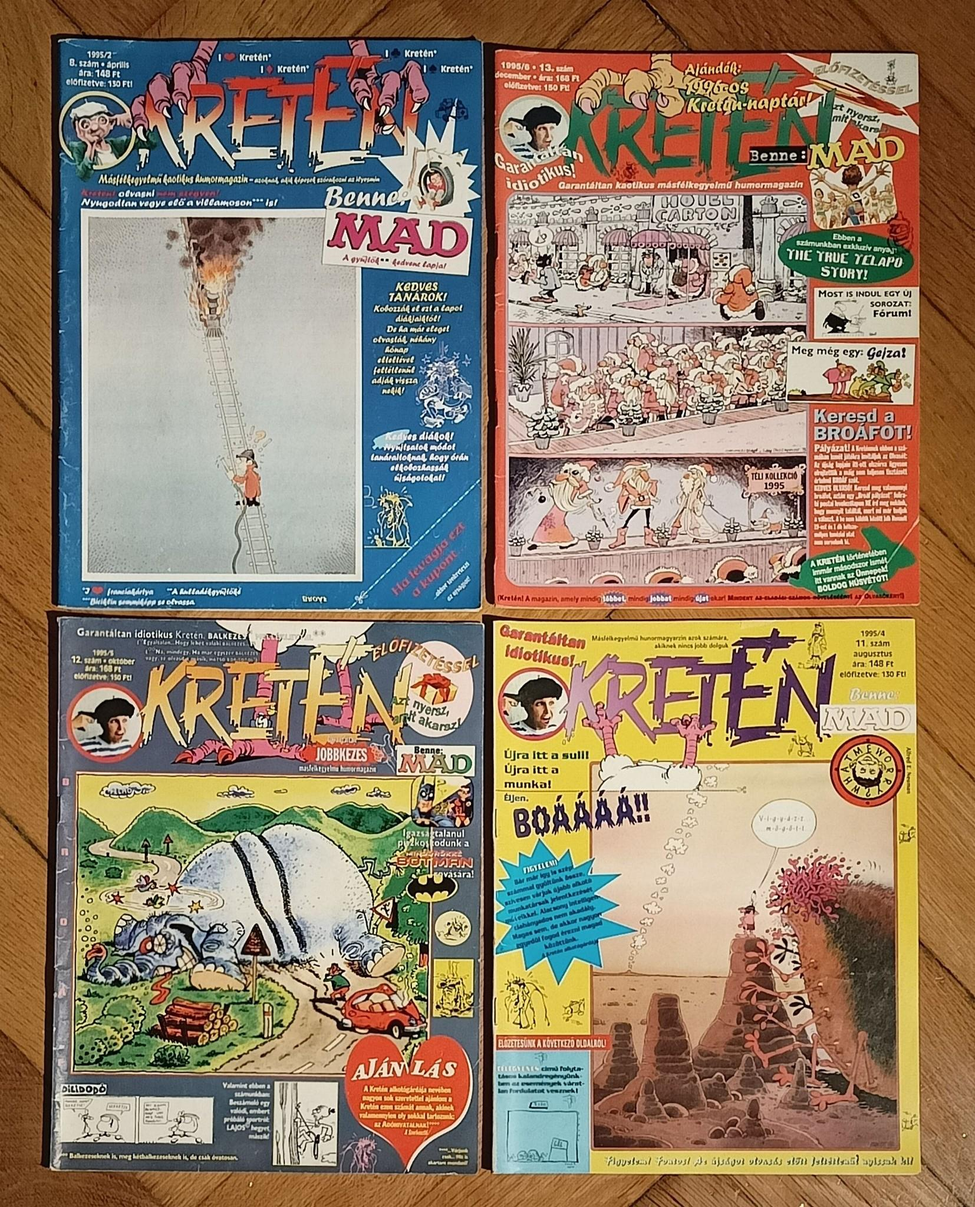comic: (54, 38, 482, 612), (51, 615, 484, 1172), (492, 50, 918, 606), (493, 619, 918, 1176)
